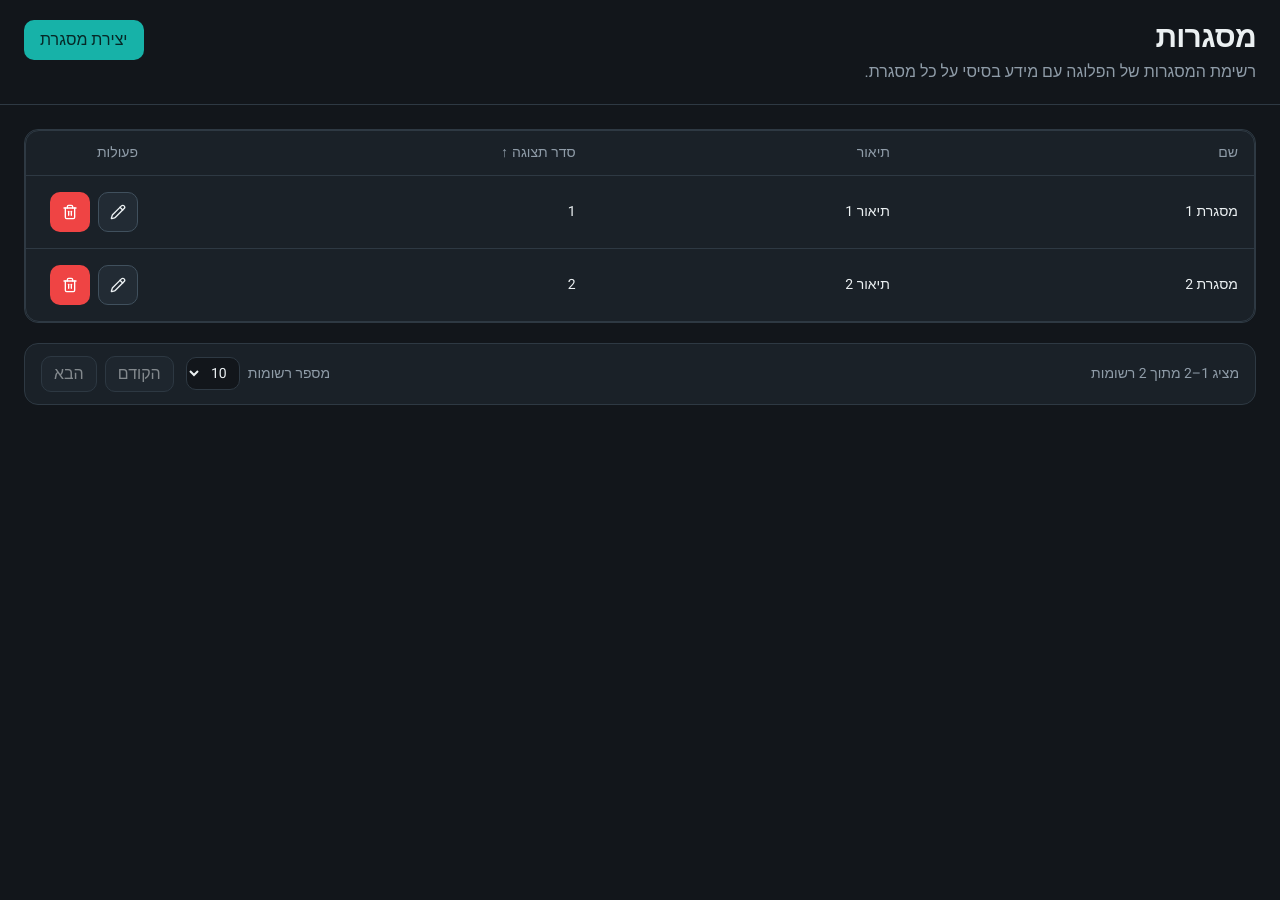
Scenario: UnitsPage › shows deletion error when the request fails
Click the button named "מחיקת ": (70, 212) [50,192,90,232]
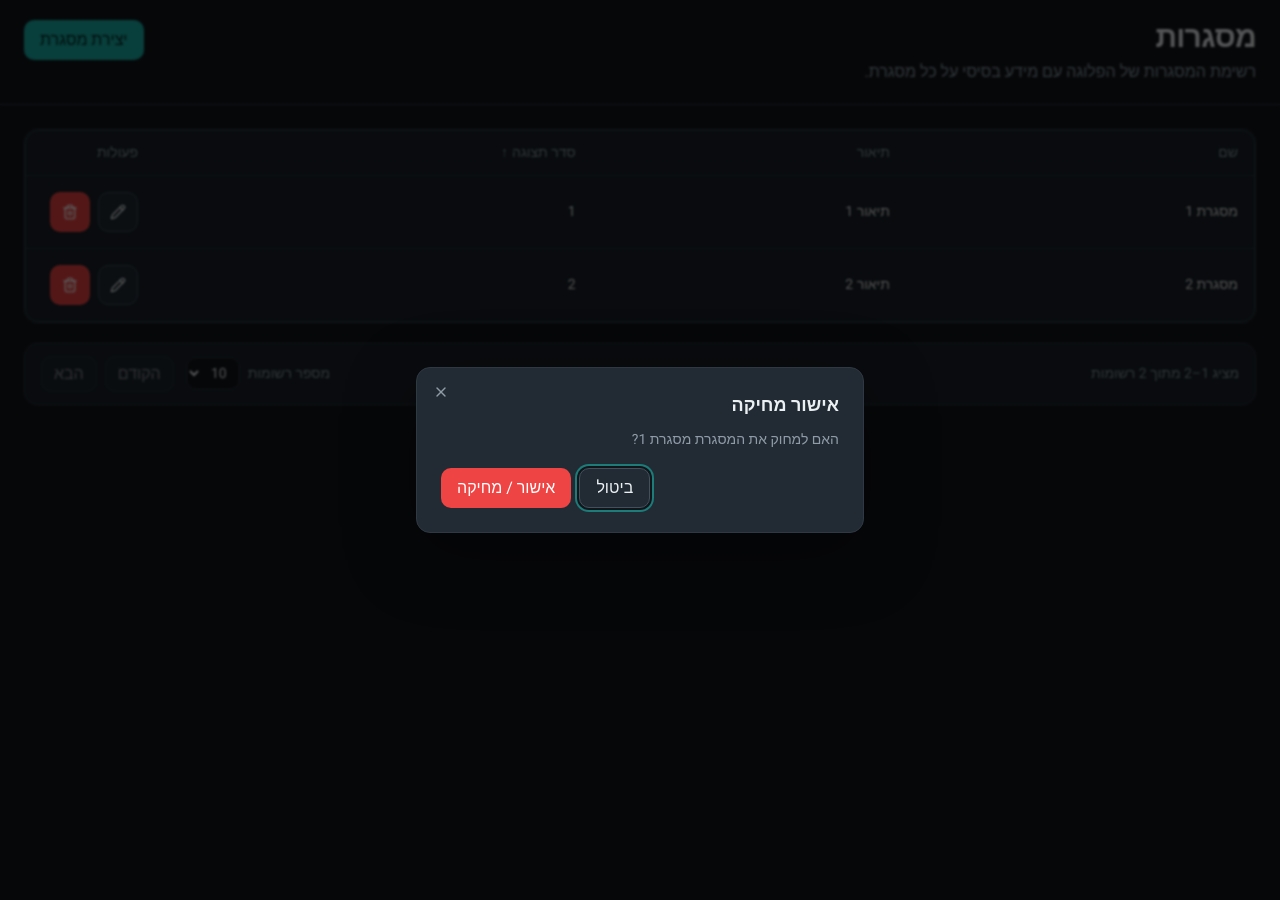
Click the button "אישור / מחיקה": (506, 488) [441,468,571,508]
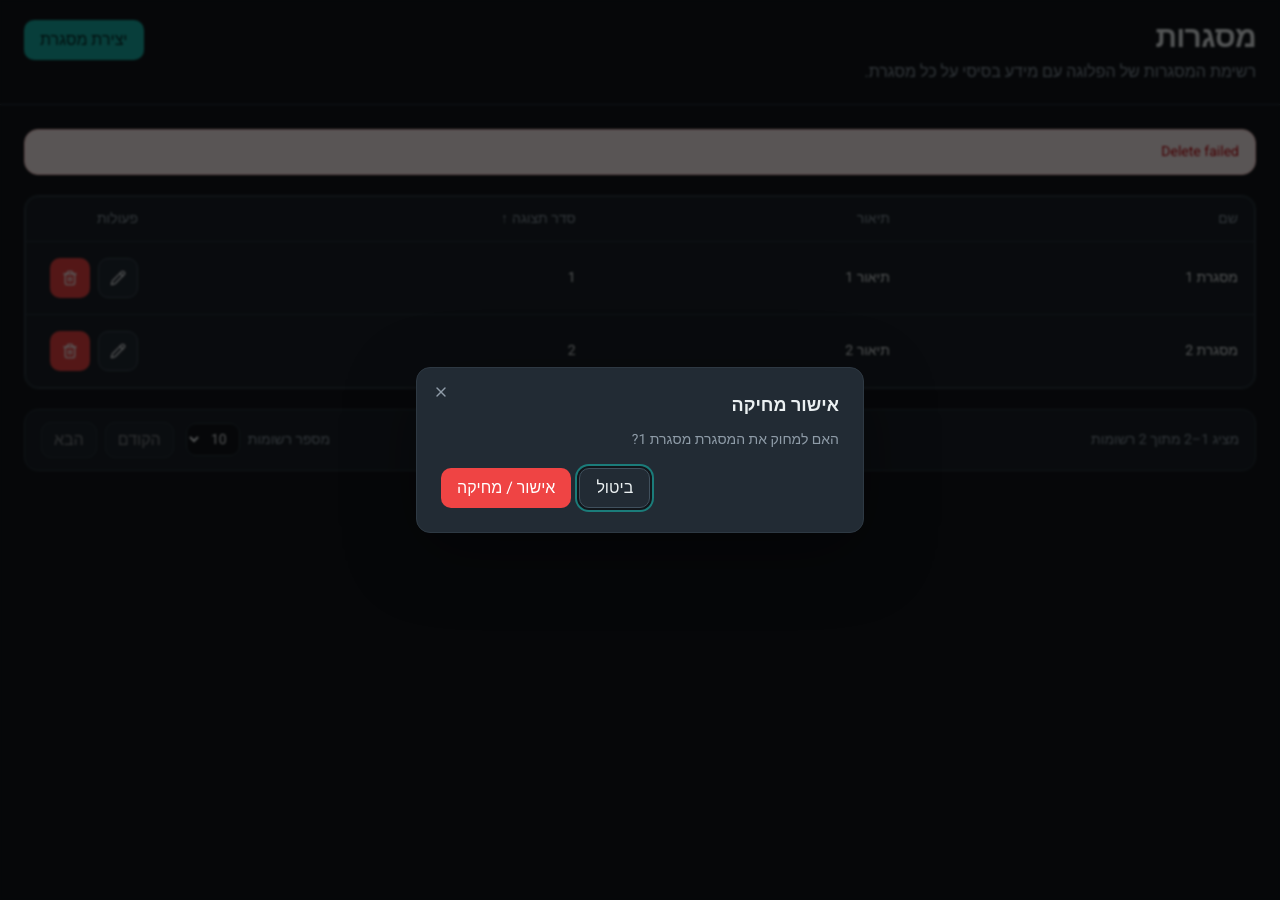
Now the text "Delete failed" is shown, box [24,129,1256,175]
